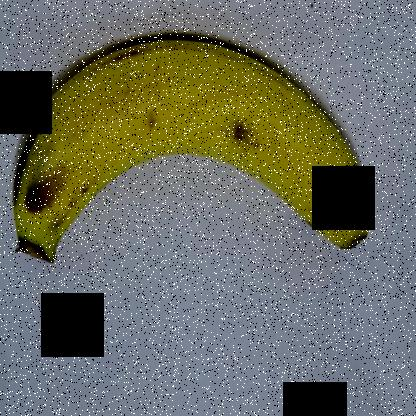freshripe: (0, 17, 373, 277)
